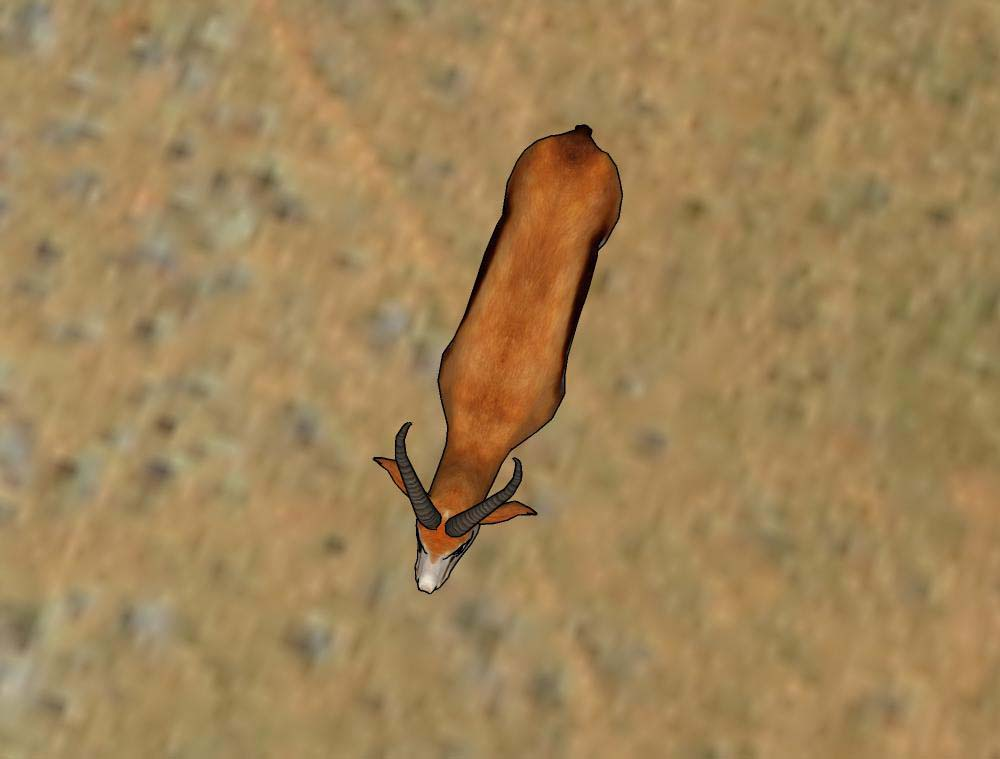springbok: (370, 122, 622, 596)
